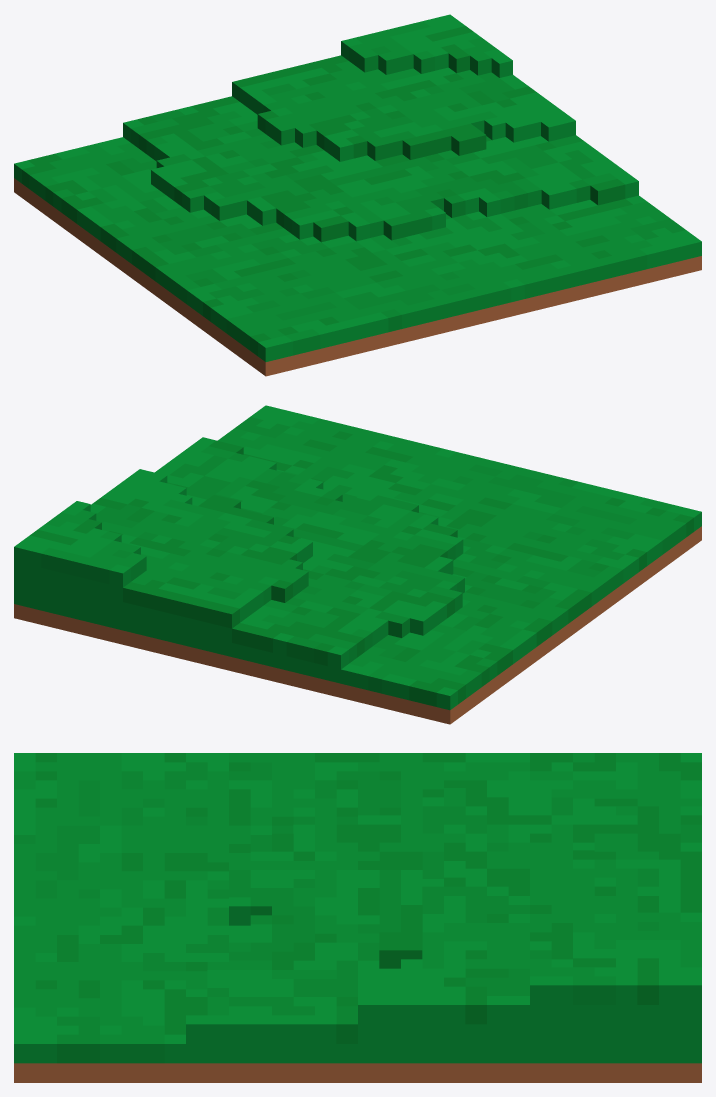
Rendered from forest-uneven-edge-outer-2.gltf.
The picture shows the model from 3 angles, top to bottom: view 1: azimuth 30°, elevation 25°; view 2: azimuth 150°, elevation 25°; view 3: azimuth 270°, elevation 25°; orthographic projection. The views are drawn at different scales.
Visible parts, largest first — view 1: forest-uneven-edge-outer-2_model; view 2: forest-uneven-edge-outer-2_model; view 3: forest-uneven-edge-outer-2_model.
Boxes of the visible parts, x1=… form: forest-uneven-edge-outer-2_model: x1=14, y1=14, x2=701, y2=376; forest-uneven-edge-outer-2_model: x1=14, y1=405, x2=701, y2=724; forest-uneven-edge-outer-2_model: x1=14, y1=753, x2=701, y2=1082.
Size of the model in its own units: 3.2 by 0.5 by 3.2.
Materials: 1 (1 with a texture image).
